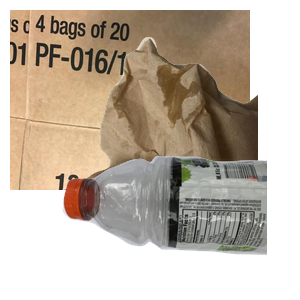cardboard: (10, 10, 250, 190)
glass: (115, 120, 300, 300)
plastic: (60, 152, 300, 300)
trash: (60, 35, 300, 215)
